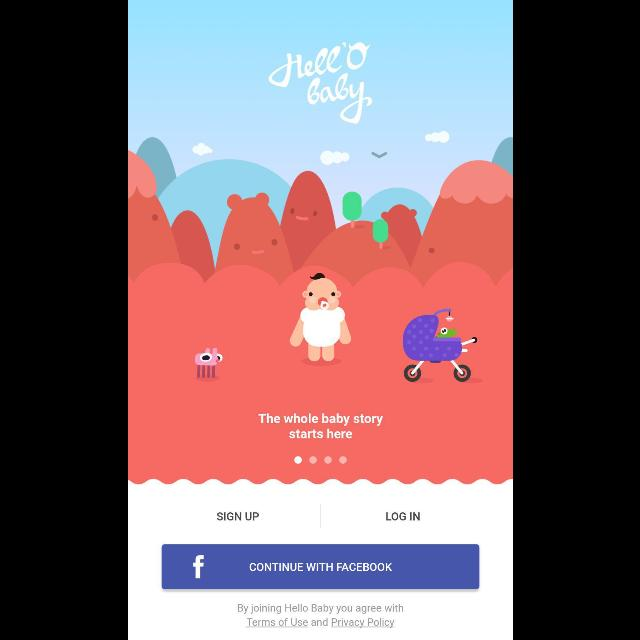image: (128, 2, 512, 484)
pageindicator: (293, 456, 347, 464)
text: (238, 604, 402, 628), (257, 413, 383, 439), (216, 512, 258, 522), (385, 512, 419, 522)
textbutton: (162, 544, 478, 590)
